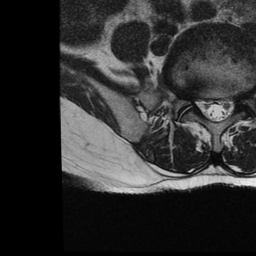CCS_normal: (208, 90, 221, 128)
LFS_severe_stenosis: (233, 87, 244, 120)
LLS_normal: (221, 92, 233, 123)
RFS_severe_stenosis: (186, 86, 197, 117)
RLS_normal: (198, 90, 208, 126)
